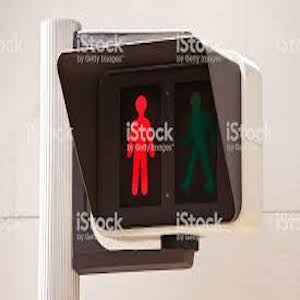red: (121, 91, 160, 198)
